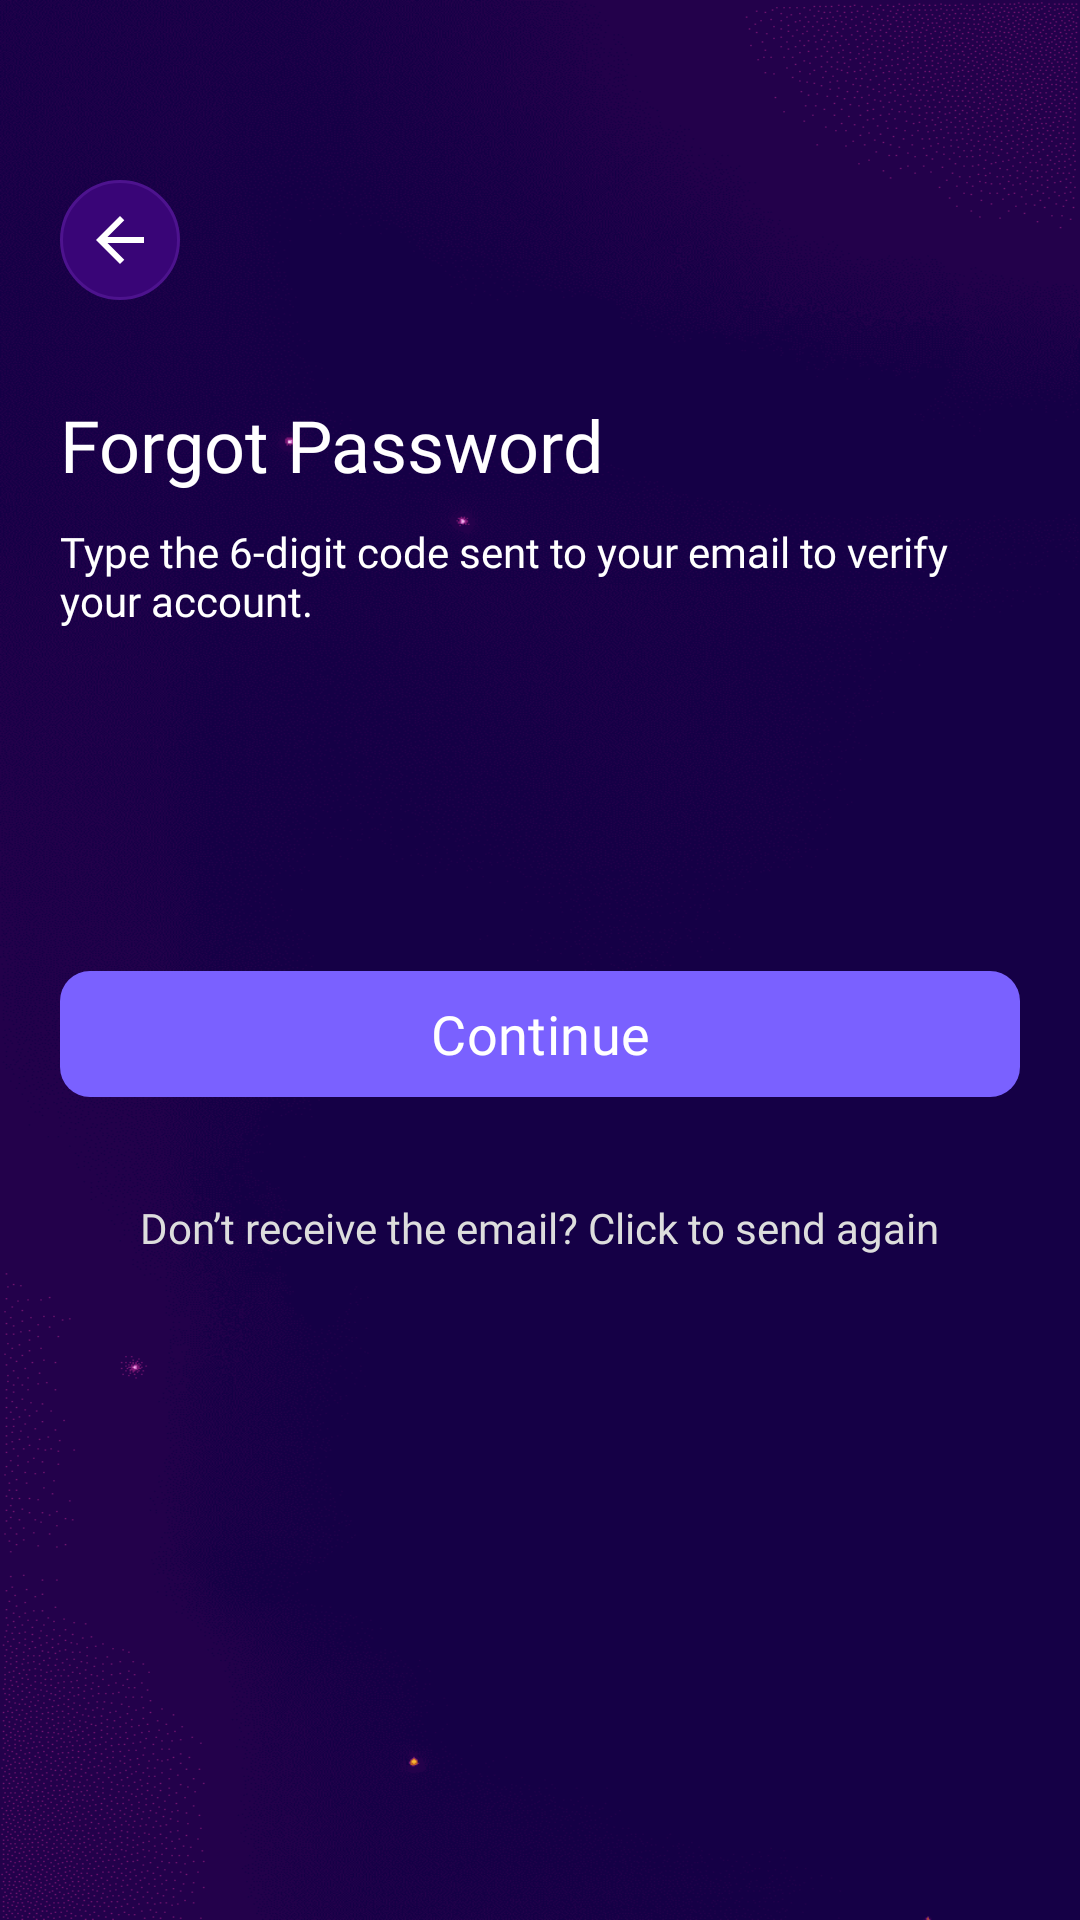

Screen size 1080*1920. Icon name, then its box in pixels as (x1, y1, x2, y2):
back: (60, 180, 180, 300)
